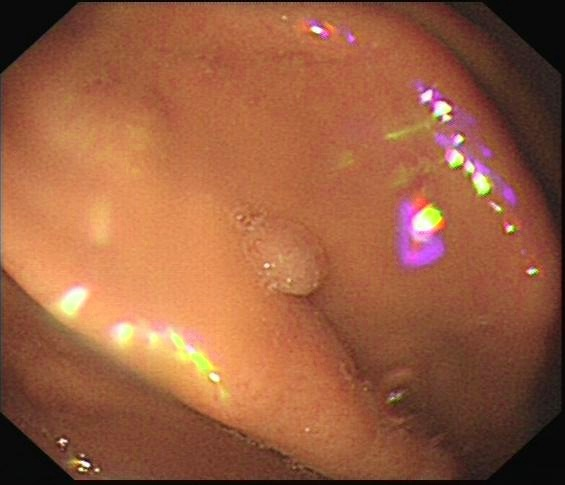Polyp: (210, 183, 357, 332)
